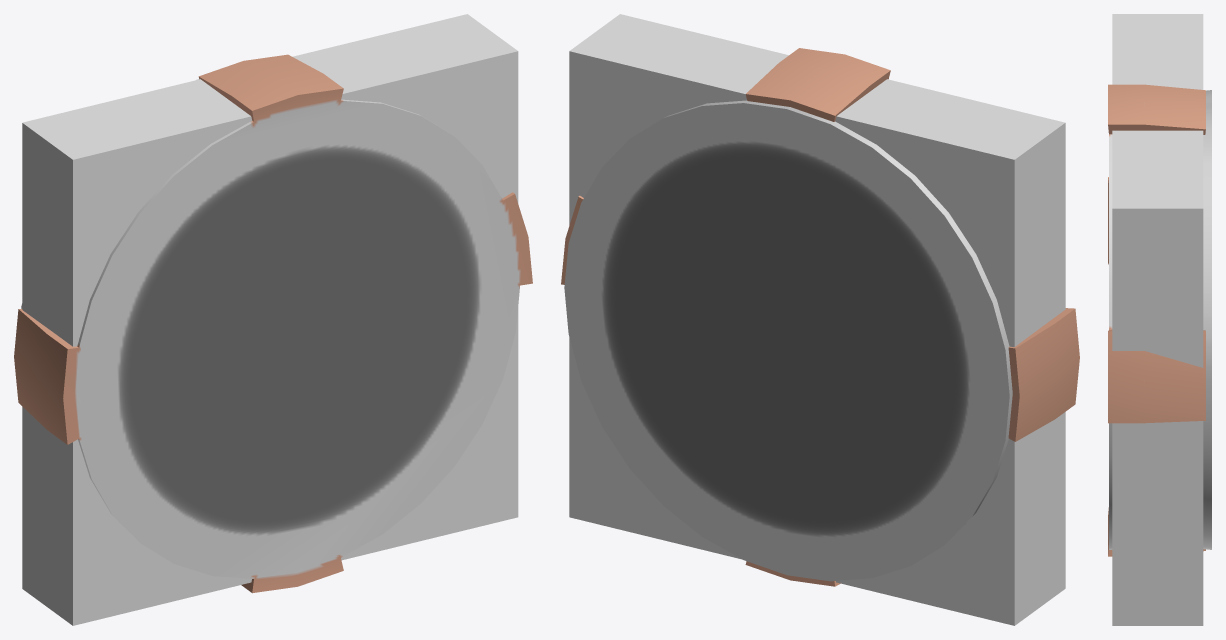
Rendered from decoupler.glb.
3 renders of one model, left to right at view 1: azimuth 30°, elevation 25°; view 2: azimuth 150°, elevation 25°; view 3: azimuth 270°, elevation 25°, orthographic. The views are drawn at different scales.
Visible parts, largest first — view 1: Cylinder, col_top, col_bottom; view 2: Cylinder.001, col_bottom, col_top, Cylinder; view 3: col_bottom, col_top, Cylinder, Cylinder.001.
Part boxes in pixels (left/top/right/bottom): Cylinder: left=14, top=54, right=532, bottom=593; col_top: left=52, top=36, right=518, bottom=625; col_bottom: left=22, top=14, right=497, bottom=611; Cylinder.001: left=564, top=100, right=1012, bottom=581; col_bottom: left=569, top=27, right=1047, bottom=625; col_top: left=600, top=14, right=1065, bottom=601; Cylinder: left=561, top=48, right=1079, bottom=586; col_bottom: left=1144, top=14, right=1203, bottom=625; col_top: left=1112, top=14, right=1148, bottom=625; Cylinder: left=1108, top=84, right=1205, bottom=556; Cylinder.001: left=1203, top=90, right=1211, bottom=549.
Size of the model in its own units: 2.11 by 2.11 by 0.4515.
1 material, 1 textured.
